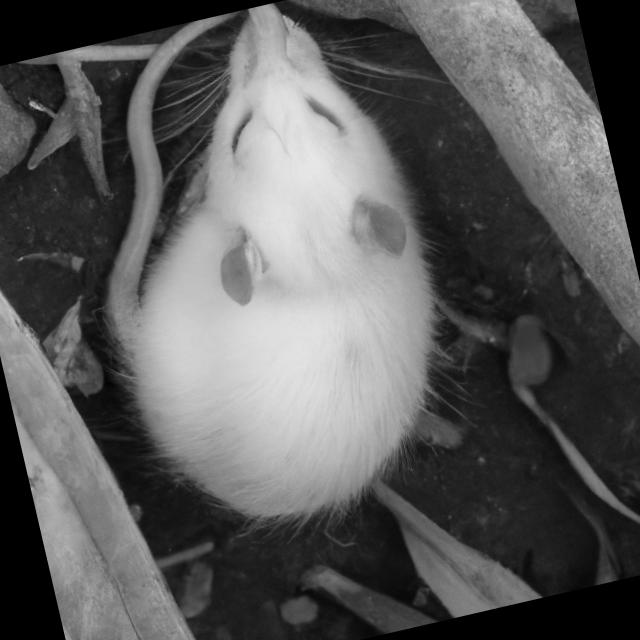rodents: (38, 0, 509, 584)
